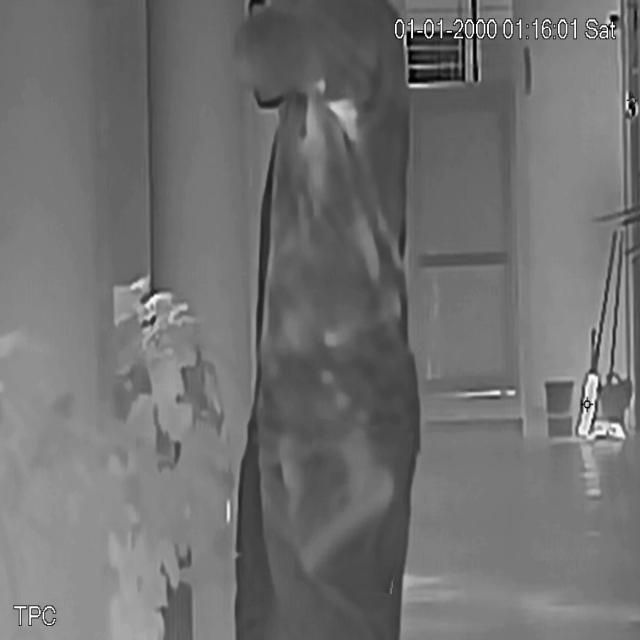Weapon: (299, 421, 409, 591)
